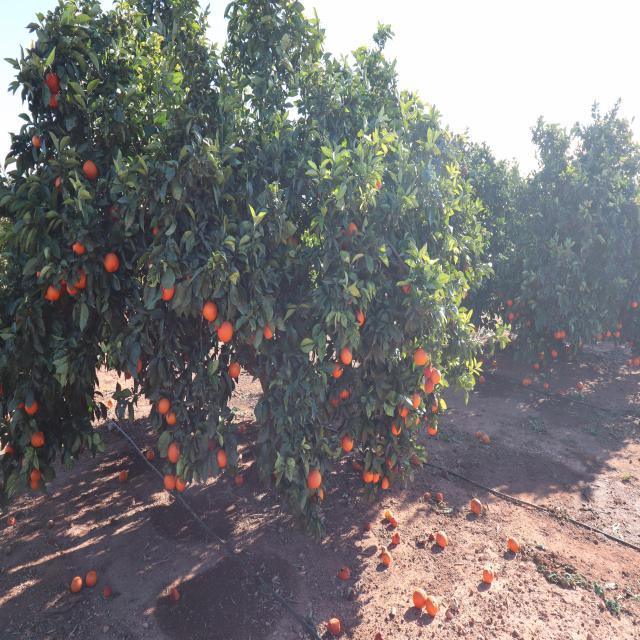Jeruk Sudah Matang: (104, 252, 119, 273), (218, 323, 234, 342), (46, 72, 60, 92), (83, 160, 97, 180), (203, 302, 217, 321), (168, 444, 182, 462), (161, 286, 175, 302), (308, 470, 320, 488), (31, 432, 44, 448), (341, 346, 352, 364), (264, 322, 275, 340), (24, 400, 38, 414), (72, 242, 86, 255), (48, 285, 61, 299), (76, 270, 86, 288), (164, 475, 176, 490), (166, 410, 178, 425), (216, 449, 226, 467), (348, 222, 358, 240), (431, 369, 442, 385), (230, 362, 240, 378), (355, 311, 365, 327), (158, 399, 170, 412), (48, 93, 59, 107), (332, 363, 342, 378), (416, 349, 426, 364), (66, 283, 78, 295), (31, 468, 41, 482), (340, 388, 350, 401), (398, 404, 408, 417), (177, 476, 186, 490), (344, 438, 354, 450), (392, 424, 402, 436), (412, 393, 420, 407), (429, 422, 437, 436), (137, 357, 143, 375), (5, 446, 15, 456), (363, 472, 373, 482), (30, 480, 39, 490), (381, 478, 389, 489), (33, 136, 41, 146), (354, 460, 362, 470), (385, 458, 392, 469), (56, 178, 61, 190), (154, 226, 160, 236), (376, 179, 382, 189), (332, 398, 339, 406), (373, 474, 379, 483), (415, 418, 420, 426)
